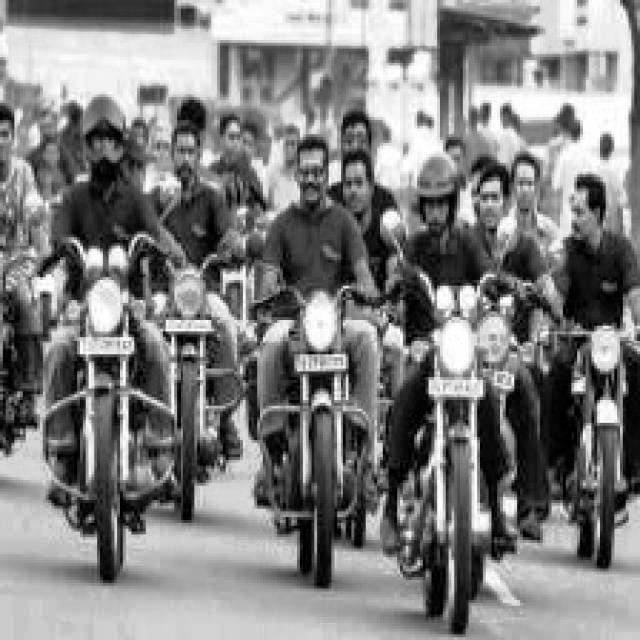Bike: (407, 296, 507, 634), (64, 246, 159, 572), (276, 288, 364, 561), (149, 258, 241, 512), (573, 315, 629, 577)
